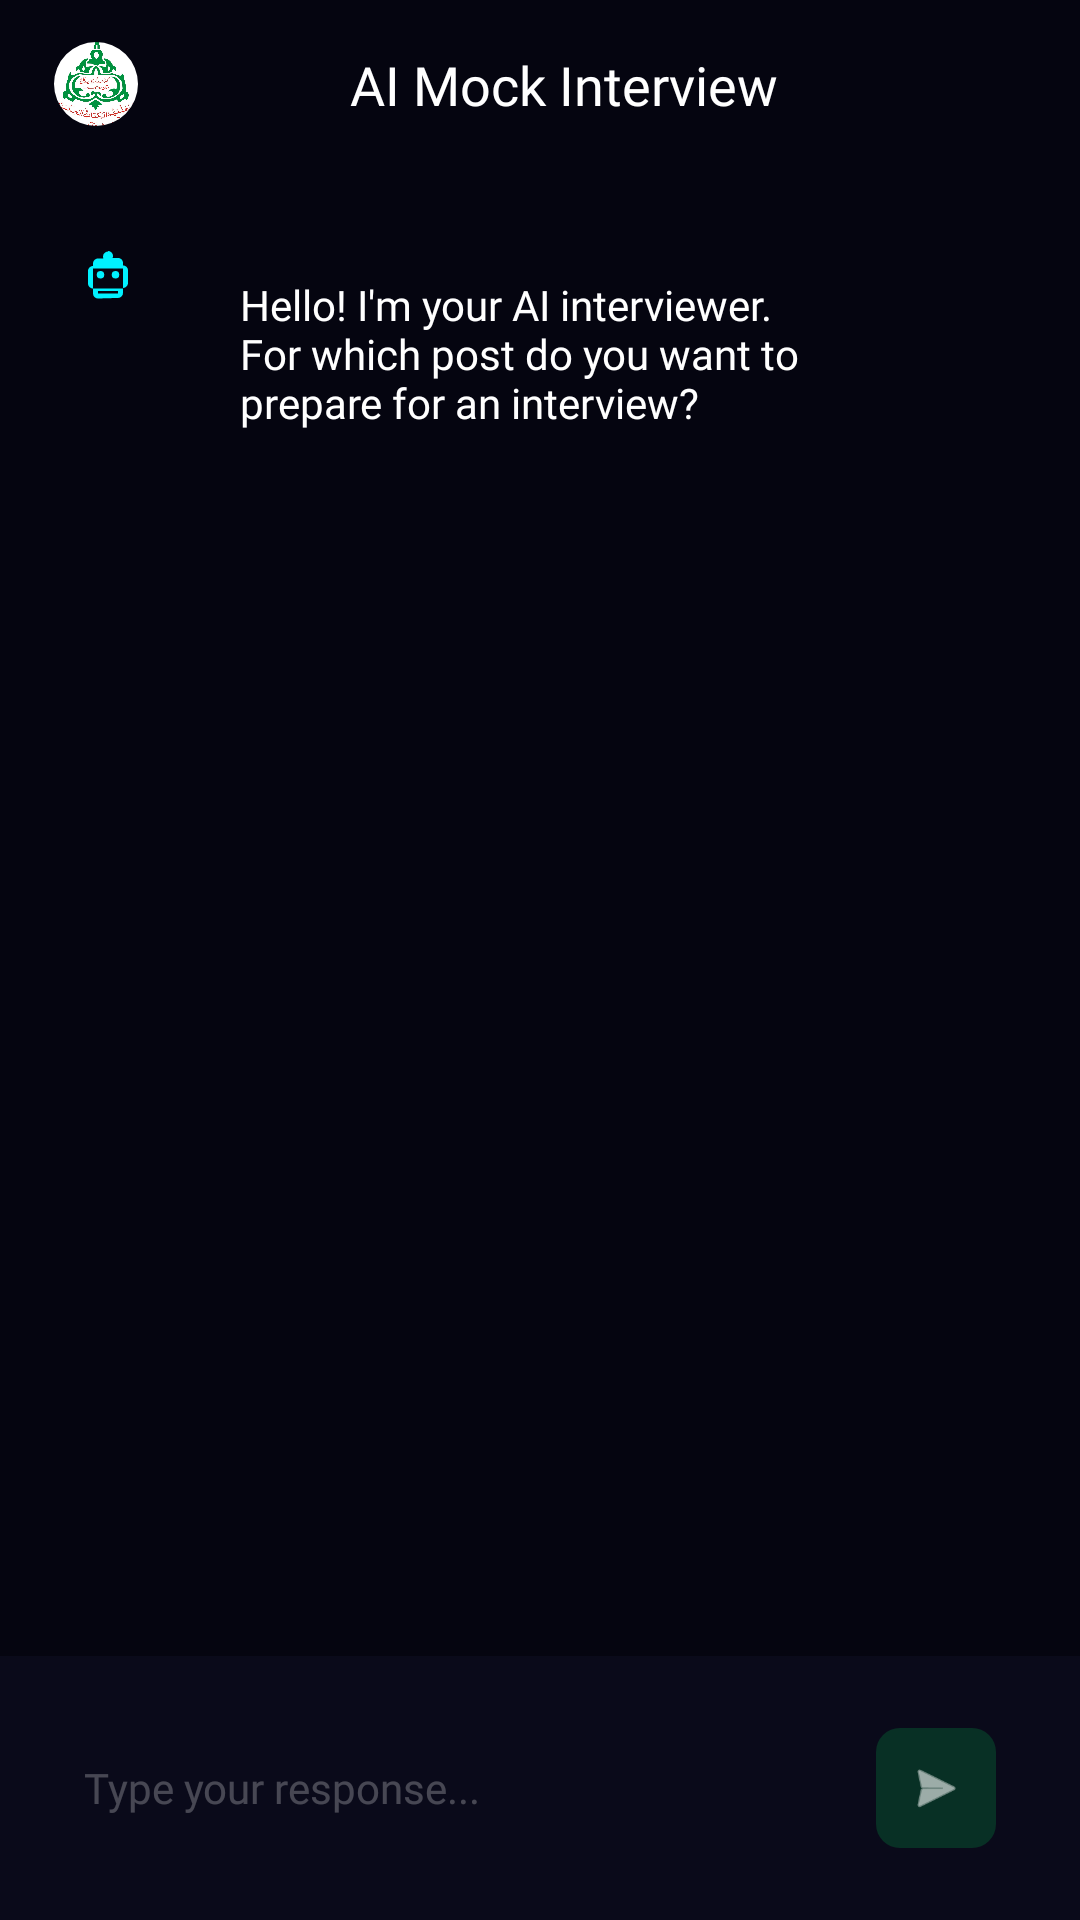

Where icons sit on this 1080px×1920px app screen, as (x1, y1, x2, y2):
bot: (88, 251, 128, 299)
send: (876, 1728, 996, 1848)
